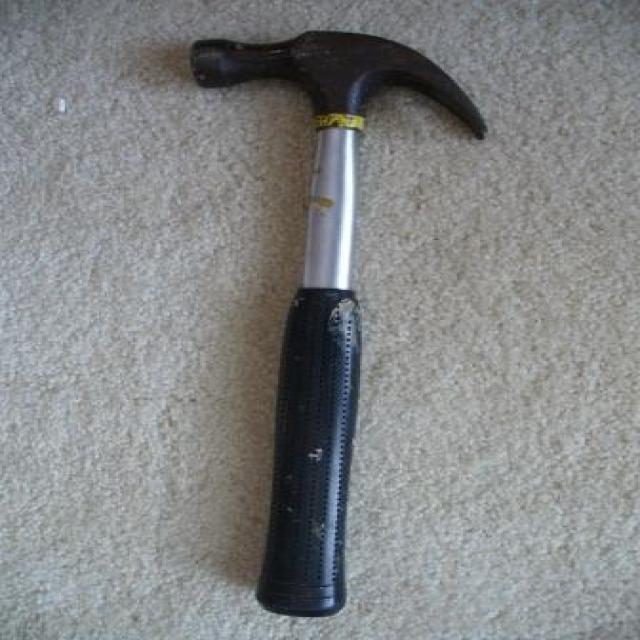hammer: (160, 0, 539, 541)
